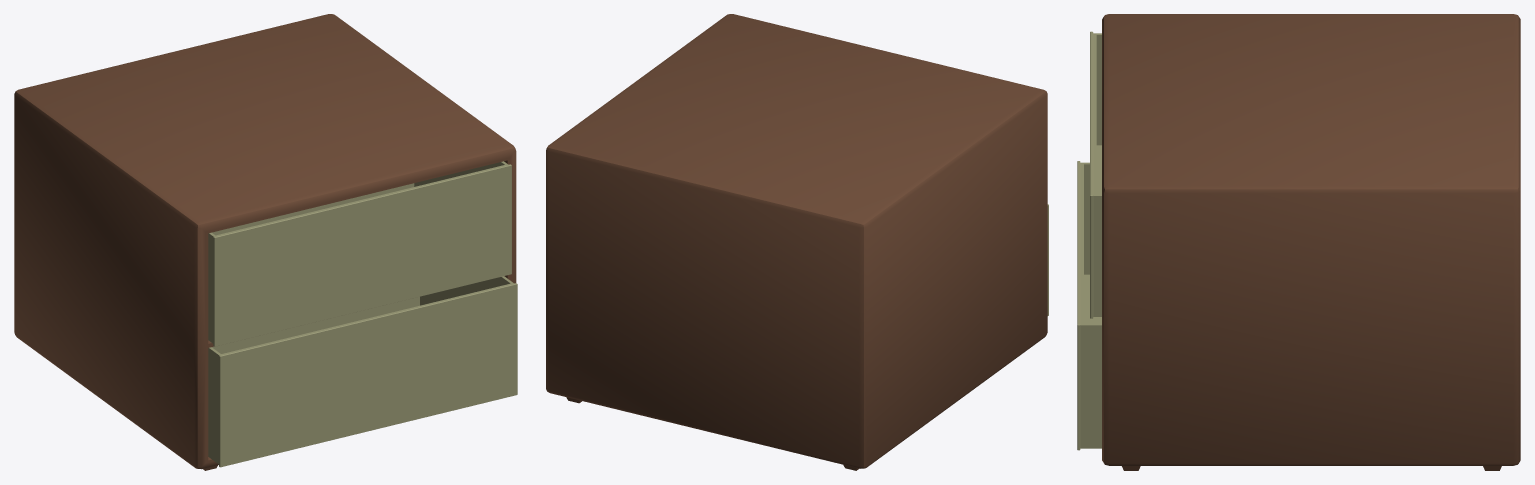
Rendered from Mesitadenoche_01.fbx.
3 views of the same model, side by side, from view 1: azimuth 30°, elevation 25°; view 2: azimuth 150°, elevation 25°; view 3: azimuth 270°, elevation 25° (orthographic). The views are drawn at different scales.
Parts seen in each view (by area): view 1: Mesita de noche1; view 2: Mesita de noche1; view 3: Mesita de noche1.
Boxes of the visible parts, <box> form: Mesita de noche1: <box>14,14,517,470</box>; Mesita de noche1: <box>546,14,1048,470</box>; Mesita de noche1: <box>1077,14,1520,470</box>.
Size of the model in its own units: 70.73 by 54.18 by 74.93.
